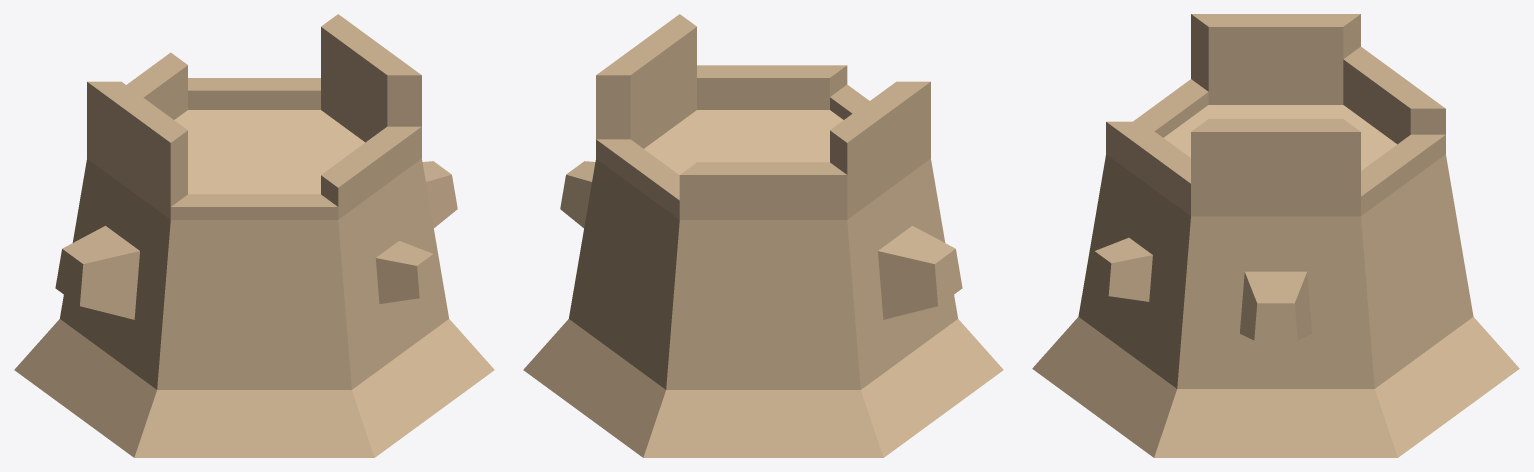
File: trunk.glb
The picture shows the model from 3 angles, left to right: view 1: azimuth 30°, elevation 25°; view 2: azimuth 150°, elevation 25°; view 3: azimuth 270°, elevation 25°; orthographic projection.
Parts seen in each view (by area): view 1: trunk(Clone); view 2: trunk(Clone); view 3: trunk(Clone).
Boxes of the visible parts, x1,y1,x2,y2 form: trunk(Clone): [14, 14, 494, 457]; trunk(Clone): [523, 14, 1003, 457]; trunk(Clone): [1032, 14, 1519, 457].
Size of the model in its own units: 0.5021 by 0.3726 by 0.5508.
